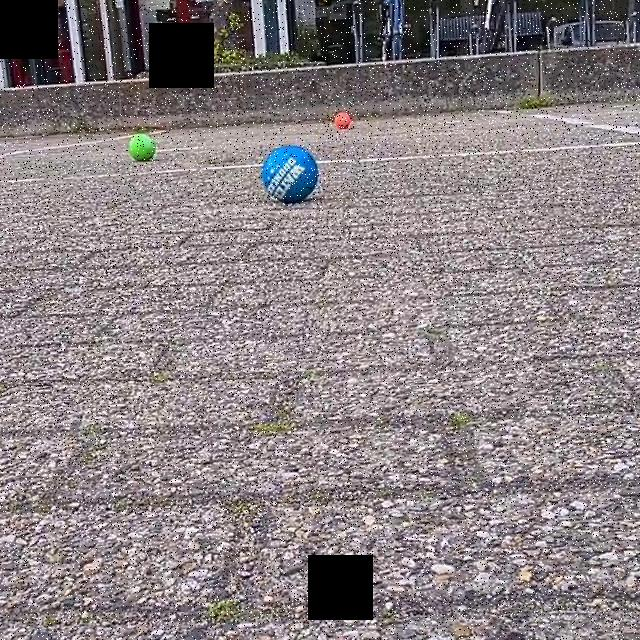ball: (128, 132, 156, 165), (332, 109, 354, 133)
